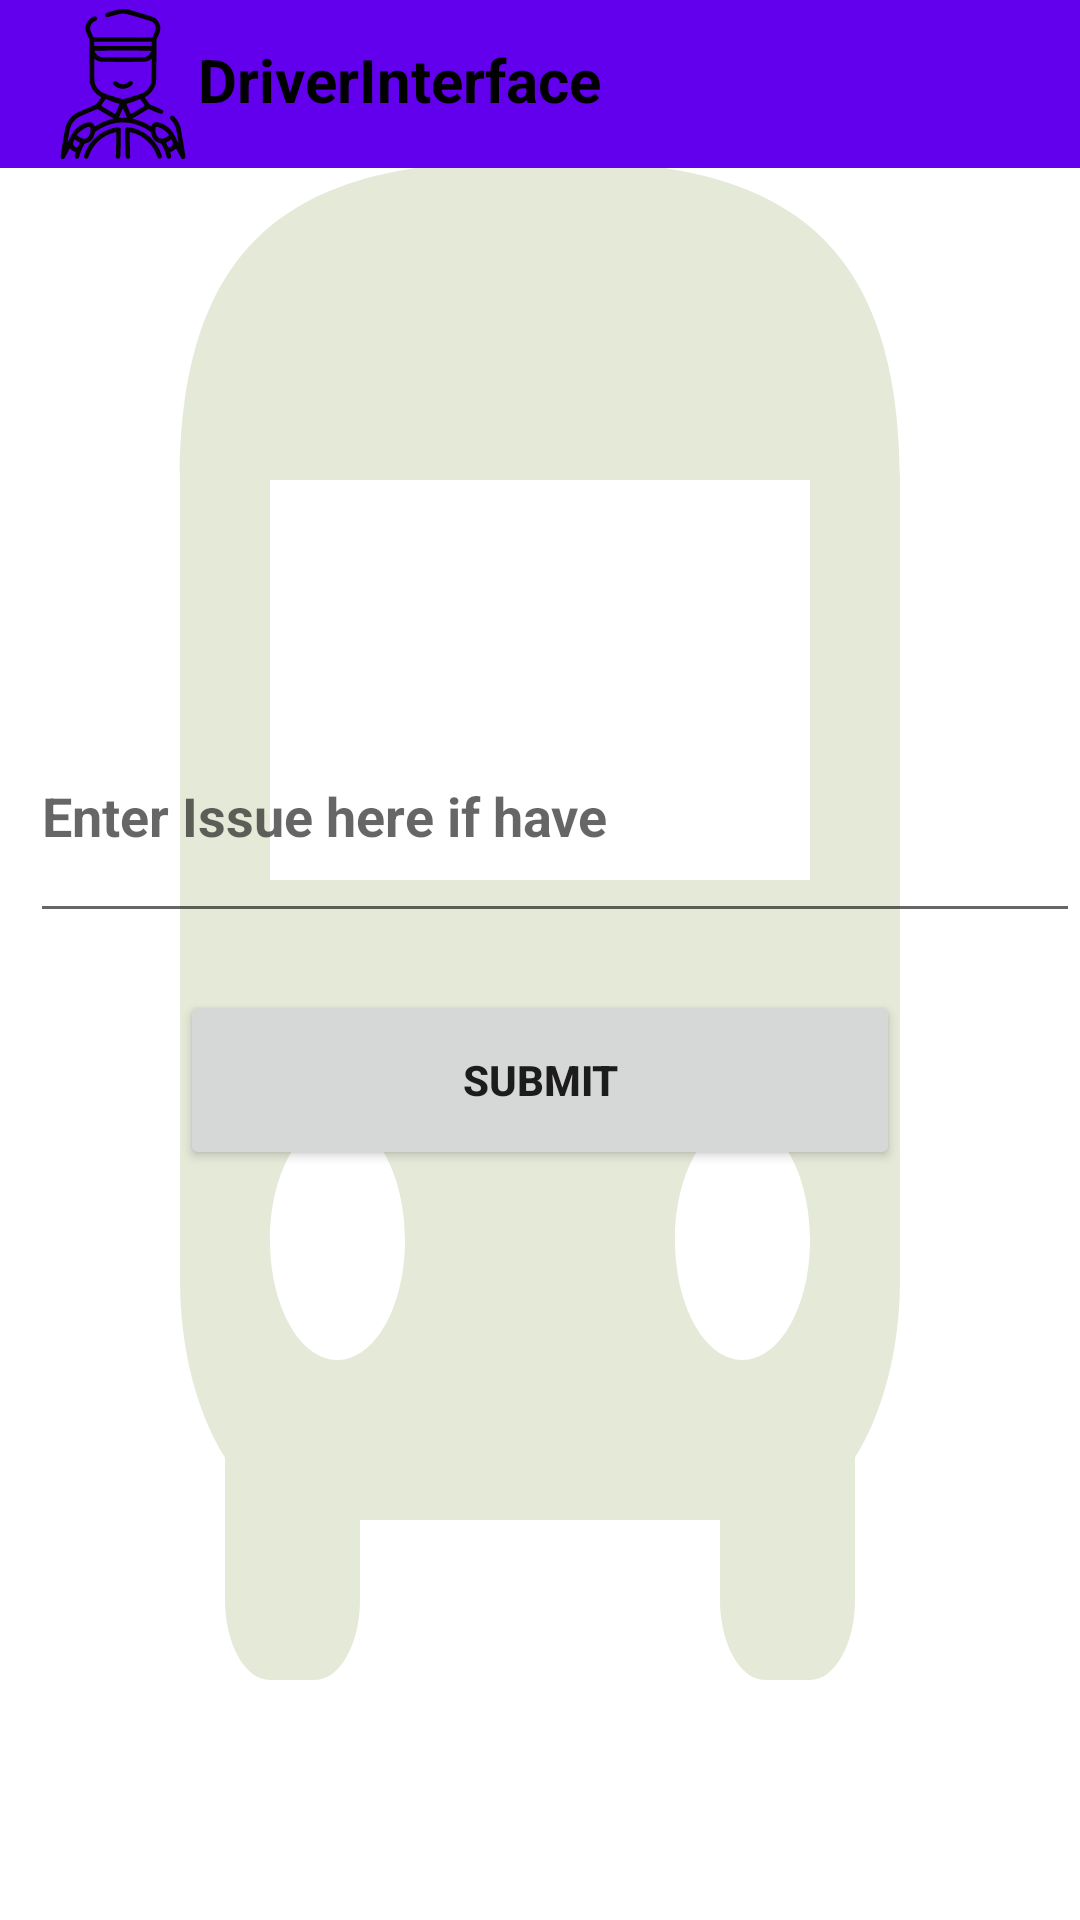

Where to tap for icons on this 1080*1920 app screen, as point (x, y):
driver request: point (123, 84)
